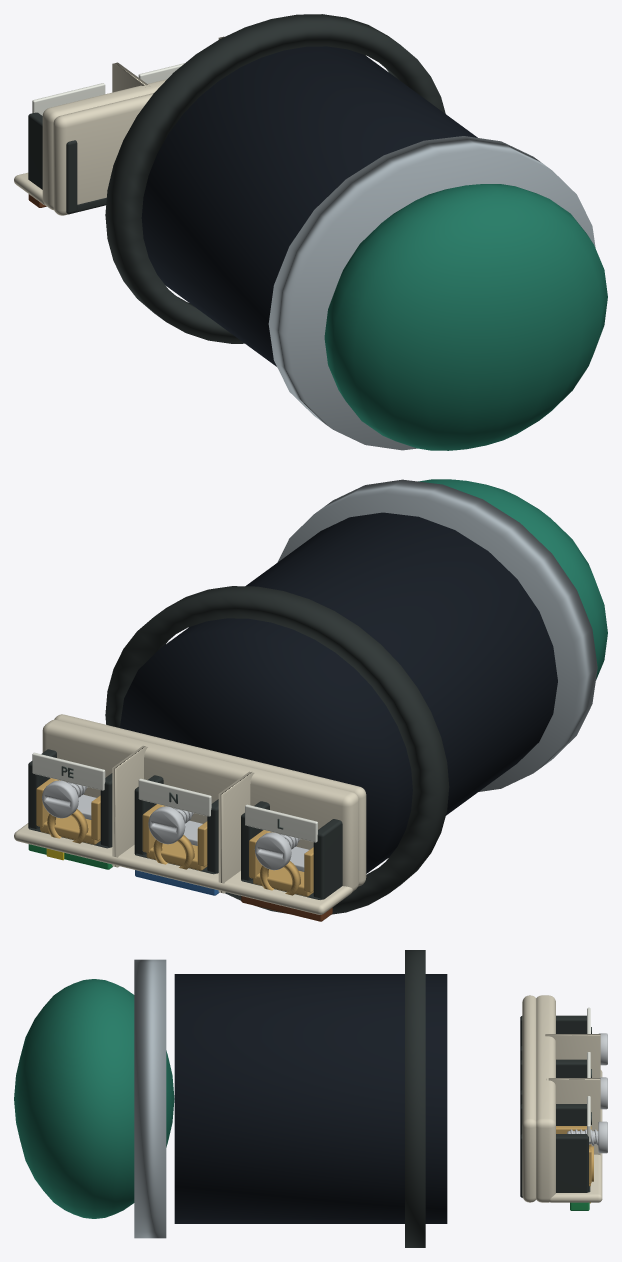
The model's file is indicator_indicator.glb.
3 renders of one model, top to bottom at view 1: azimuth 30°, elevation 25°; view 2: azimuth 150°, elevation 25°; view 3: azimuth 270°, elevation 25°, orthographic. The views are drawn at different scales.
Visible parts, largest first — view 1: part:body, part:display, Panel indicator retaining locknut, part:terminals · Original 5a609f27, detail:terminal-clamp:L · Detail moulded engineering polymer, Moulded terminal legend pad; view 2: part:body, part:terminals · Original 5a609f27, Panel indicator retaining locknut, part:display, detail:terminal-clamp:L · Detail moulded engineering polymer, detail:terminal-clamp:N · Detail machined brass, detail:terminal-clamp:PE · Detail machined brass, detail:terminal-clamp:L · Detail machined brass, detail:terminal-clamp:PE · Detail moulded engineering polyme, detail:terminal-clamp:N · Detail moulded engineering polymer, Moulded terminal legend pad, Moulded terminal legend pad.001 (+6 smaller); view 3: part:body, part:display, part:terminals · Original 5a609f27, Panel indicator retaining locknut, detail:terminal-clamp:PE · Detail moulded engineering polyme, detail:terminal-clamp:L · Detail moulded engineering polymer, detail:terminal-clamp:N · Detail moulded engineering polymer, detail:terminal-clamp:PE · Detail zinc plated fixing.
Boxes of the visible parts, left/top/right/bottom form: part:body: left=141, top=46, right=595, bottom=450; part:display: left=324, top=184, right=607, bottom=450; Panel indicator retaining locknut: left=105, top=14, right=445, bottom=343; part:terminals · Original 5a609f27: left=14, top=36, right=366, bottom=215; detail:terminal-clamp:L · Detail moulded engineering polymer: left=28, top=112, right=106, bottom=214; Moulded terminal legend pad: left=32, top=83, right=105, bottom=115; part:body: left=120, top=479, right=597, bottom=873; part:terminals · Original 5a609f27: left=14, top=714, right=366, bottom=914; Panel indicator retaining locknut: left=105, top=586, right=449, bottom=914; part:display: left=418, top=479, right=607, bottom=679; detail:terminal-clamp:L · Detail moulded engineering polymer: left=241, top=801, right=342, bottom=899; detail:terminal-clamp:N · Detail machined brass: left=142, top=804, right=207, bottom=870; detail:terminal-clamp:PE · Detail machined brass: left=36, top=778, right=100, bottom=844; detail:terminal-clamp:L · Detail machined brass: left=249, top=830, right=313, bottom=896; detail:terminal-clamp:PE · Detail moulded engineering polyme: left=28, top=749, right=112, bottom=848; detail:terminal-clamp:N · Detail moulded engineering polymer: left=134, top=775, right=218, bottom=874; Moulded terminal legend pad: left=245, top=804, right=317, bottom=842; Moulded terminal legend pad.001: left=138, top=778, right=211, bottom=816; part:body: left=134, top=959, right=447, bottom=1238; part:display: left=14, top=979, right=174, bottom=1218; part:terminals · Original 5a609f27: left=522, top=995, right=602, bottom=1202; Panel indicator retaining locknut: left=405, top=950, right=425, bottom=1247; detail:terminal-clamp:PE · Detail moulded engineering polyme: left=520, top=1104, right=590, bottom=1197; detail:terminal-clamp:L · Detail moulded engineering polymer: left=520, top=1015, right=586, bottom=1060; detail:terminal-clamp:N · Detail moulded engineering polymer: left=520, top=1059, right=586, bottom=1104; detail:terminal-clamp:PE · Detail zinc plated fixing: left=567, top=1121, right=607, bottom=1153.
Size of the model in its own units: 0.3815 by 0.3421 by 0.6966.
